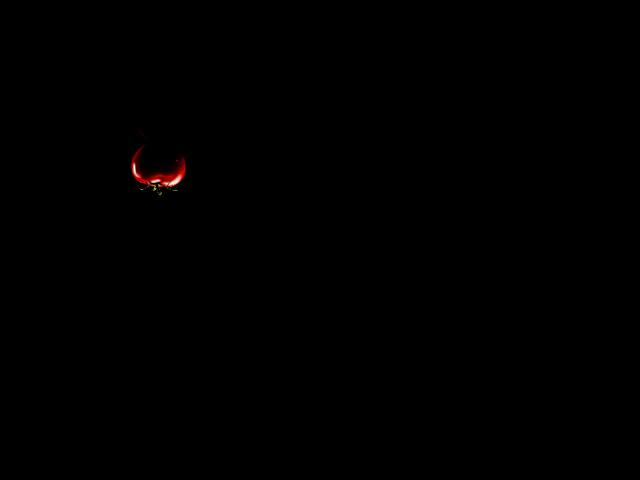tomato: (130, 142, 187, 189)
